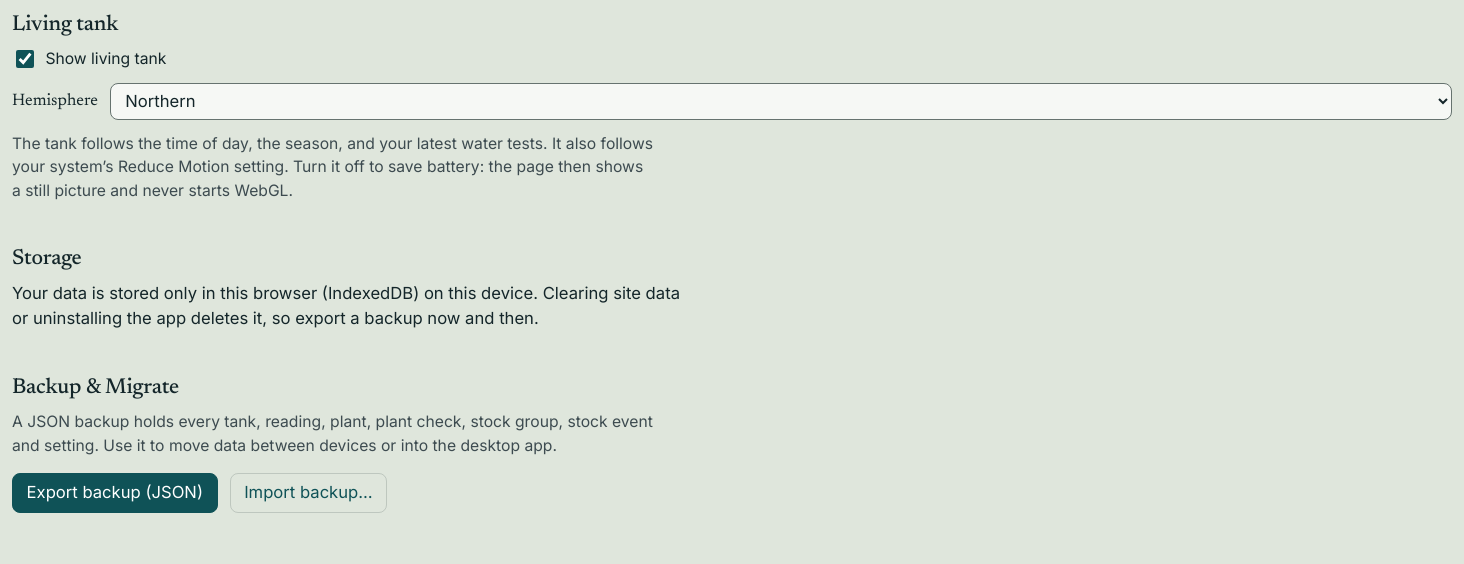
Test: SettingsClient living-tank prefs › rolls the toggle back when the save fails
Click the checkbox labelled "Show living tank".
click(25, 59)  # box [16,50,34,68]
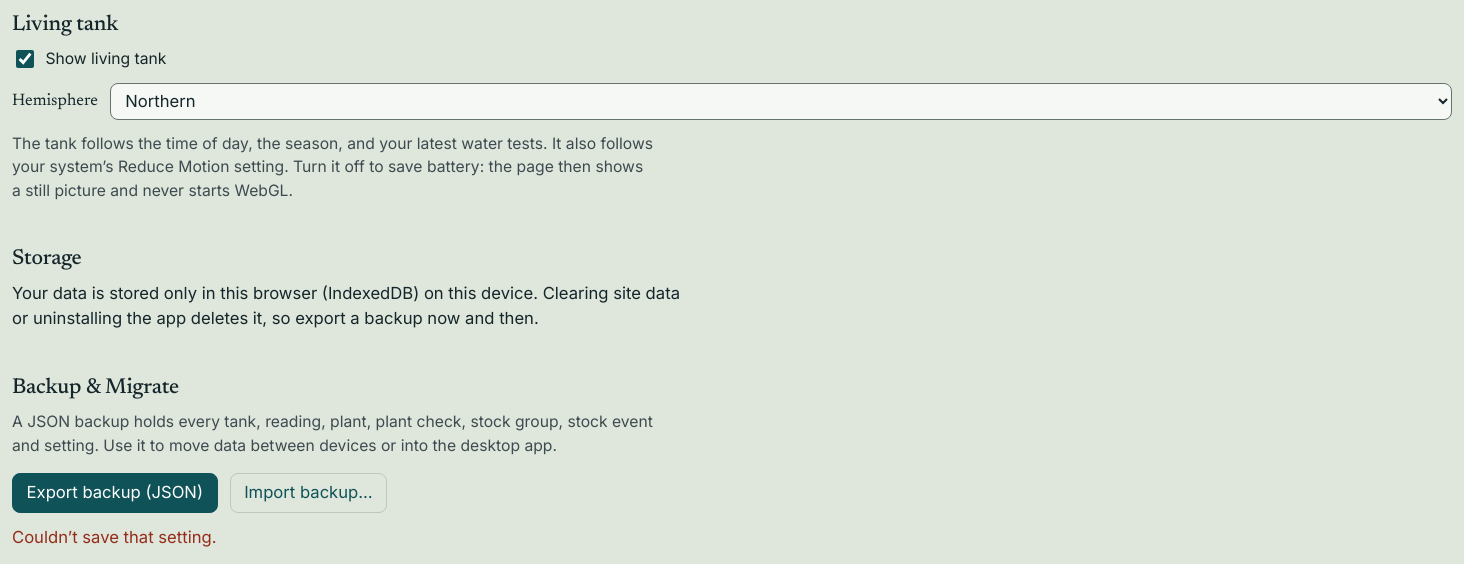
Now the text "Couldn’t save that setting." is shown, box [12,527,216,547]
